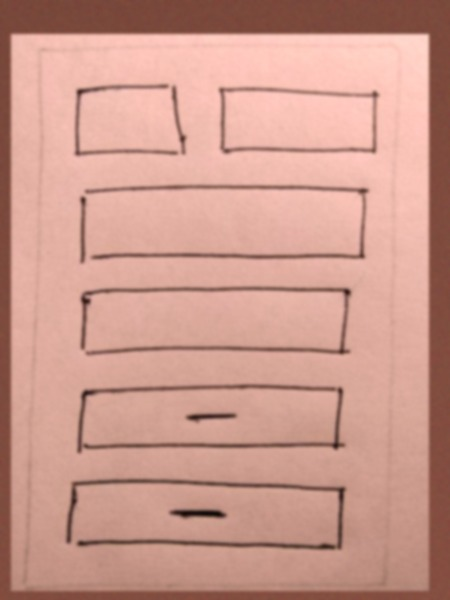button: (57, 473, 356, 561), (69, 378, 352, 463)
text_input: (72, 179, 376, 271), (72, 282, 363, 367), (211, 79, 389, 165), (65, 80, 197, 161)
